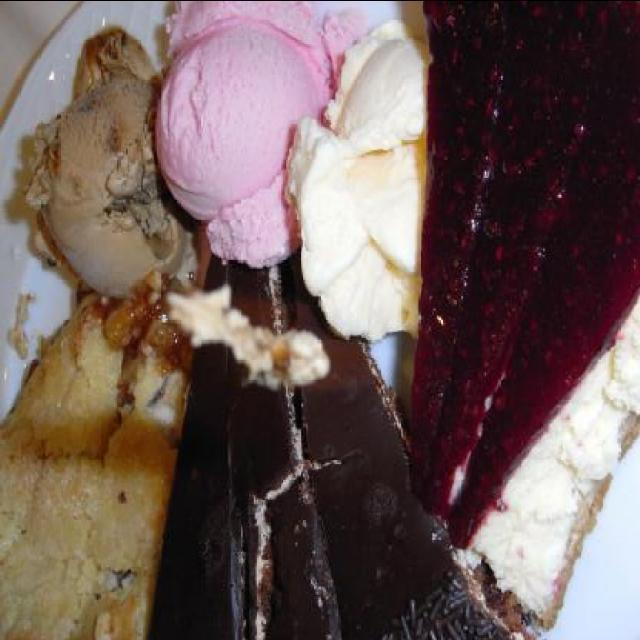Ice cream: (147, 1, 361, 274), (278, 14, 438, 357), (22, 34, 200, 294)
